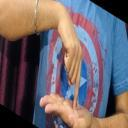hand: (59, 12, 82, 110), (40, 94, 96, 128)
